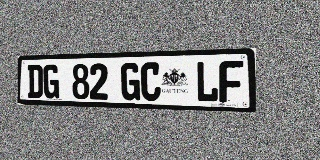2: (90, 63, 108, 100)
8: (72, 64, 89, 99)
C: (141, 62, 161, 101)
D: (28, 64, 43, 98)
F: (219, 61, 243, 103)
G: (121, 63, 140, 101), (43, 64, 59, 99)
L: (196, 61, 218, 102)
